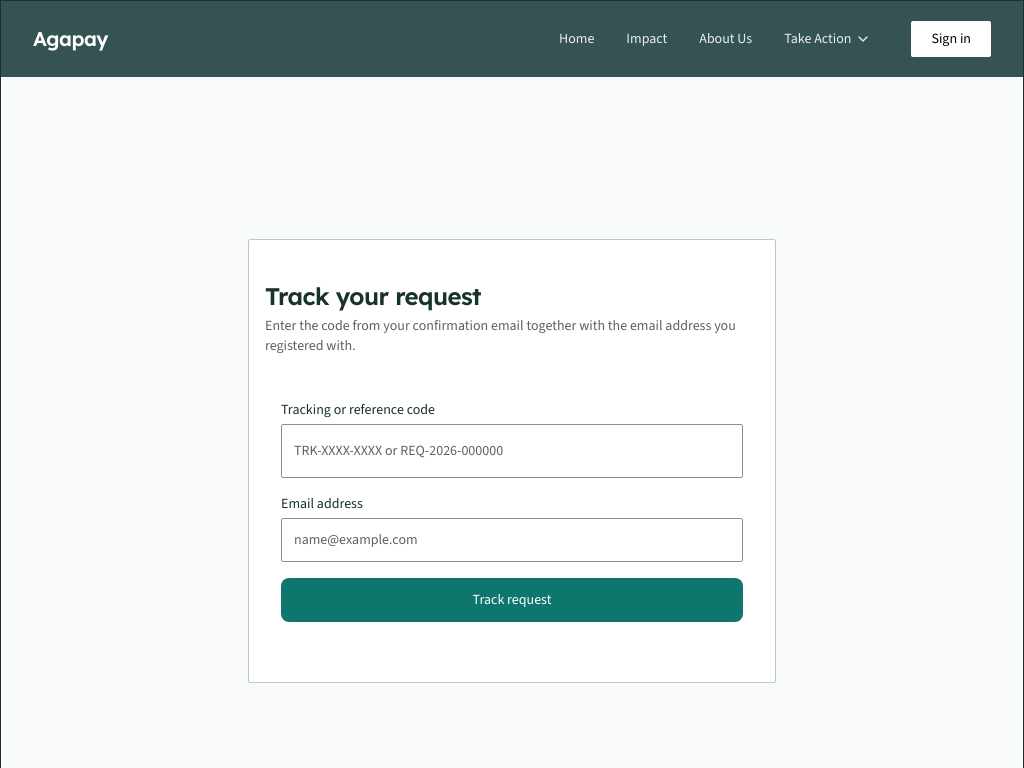
TrackAssistancePage › shows the same generic message when nothing matches
In the field labelled "Tracking or reference code": (512, 451) [281,424,743,478], type "TRK-NOPE-0000"
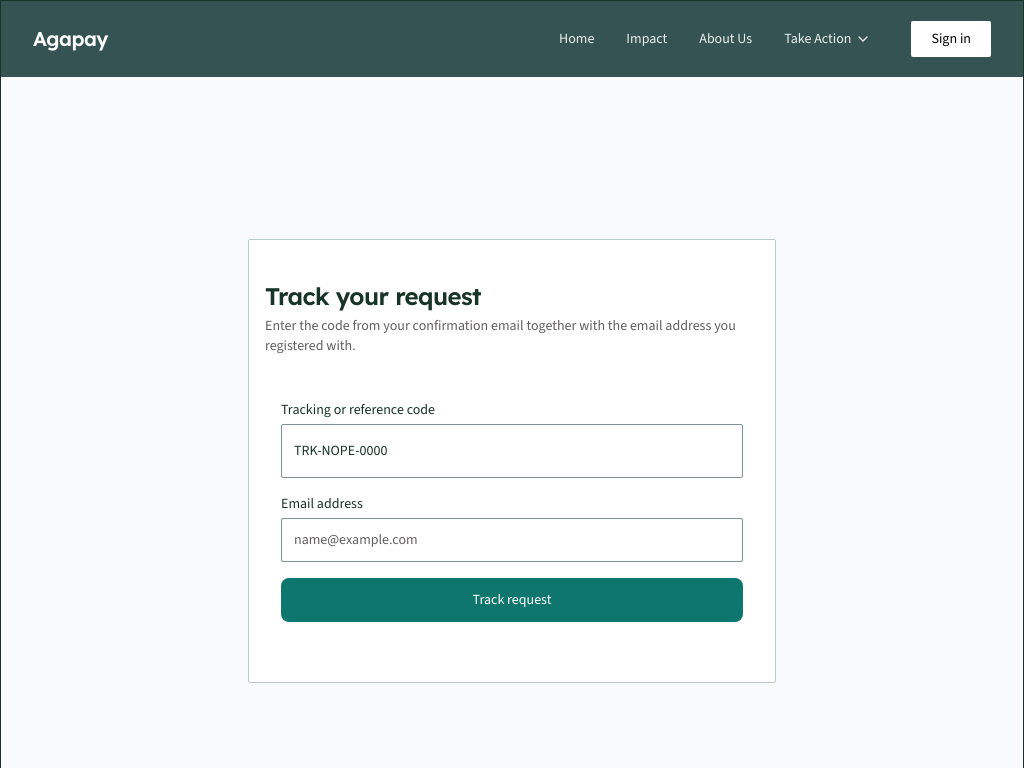
In the field labelled "Email address": (512, 540) [281,518,743,562], type "nobody@example.com"
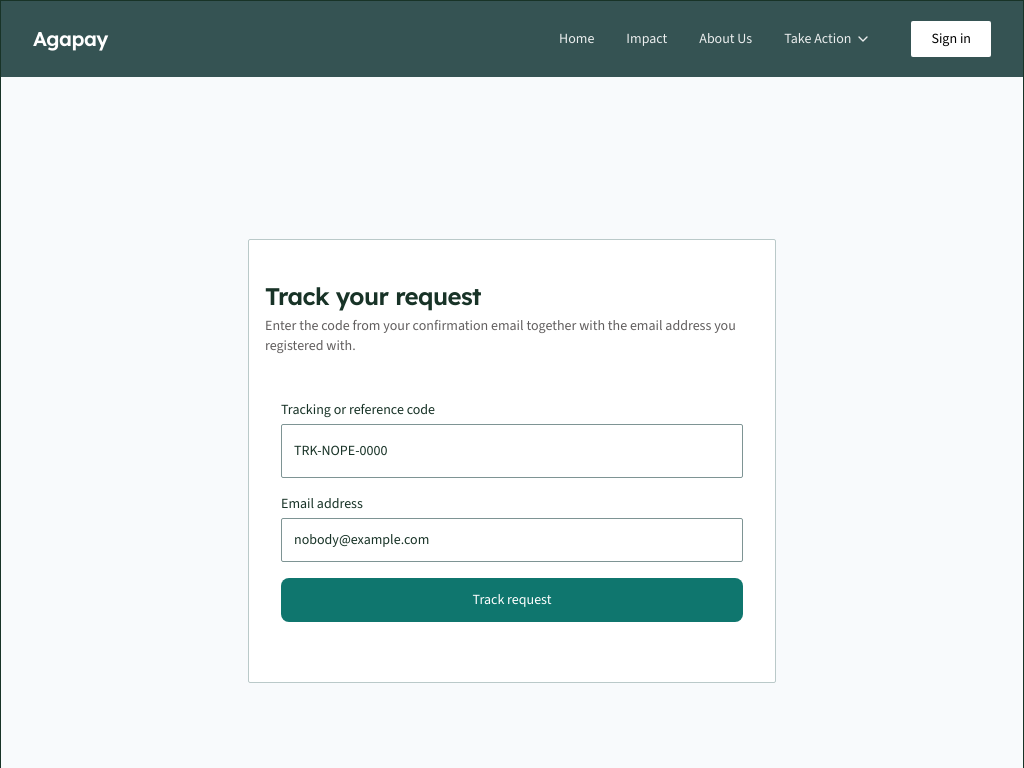
Click the button "Track request": (512, 600) [281,578,743,622]
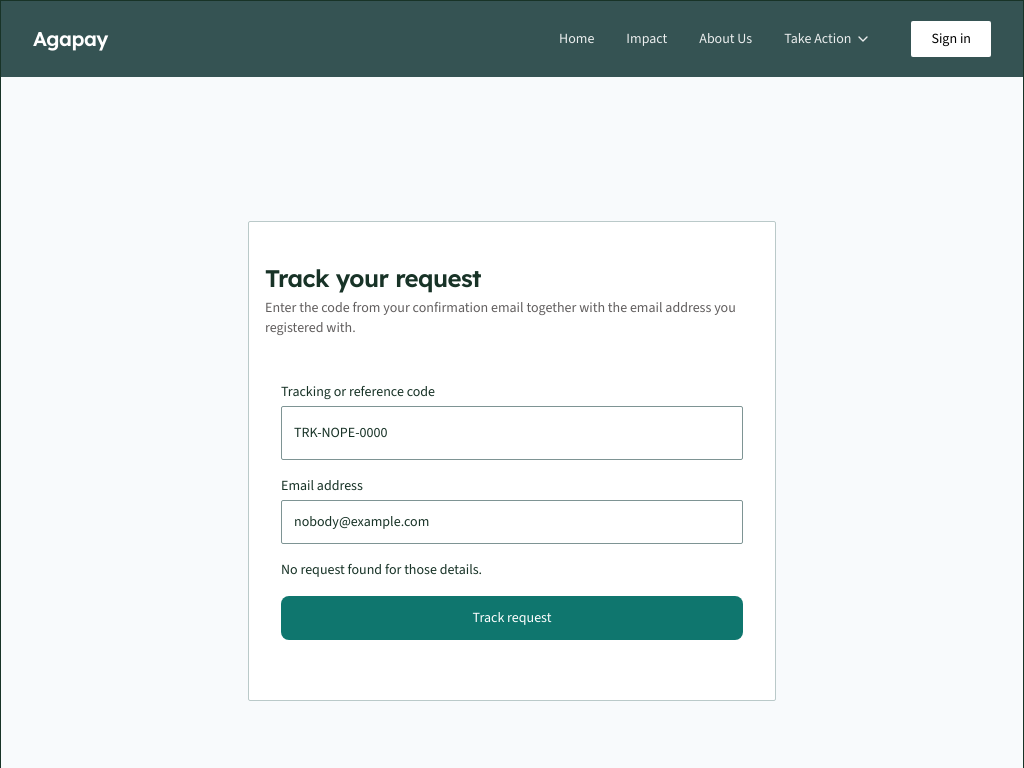
Result: the text "No request found for those details." is shown at [281,560,482,579]
